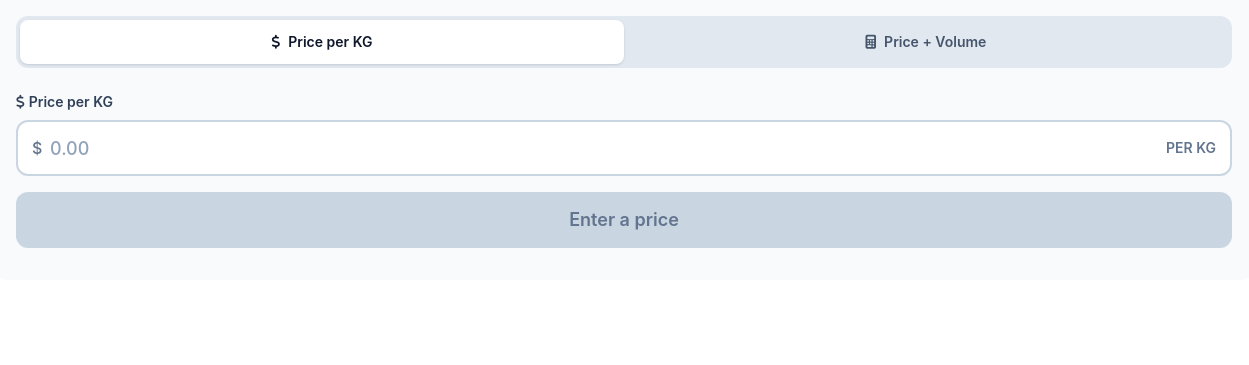
Test: PriceCalculator Component › switches to price-volume mode when button is clicked
Click the button "Price + Volume".
click(926, 42)  # box [624,20,1228,64]
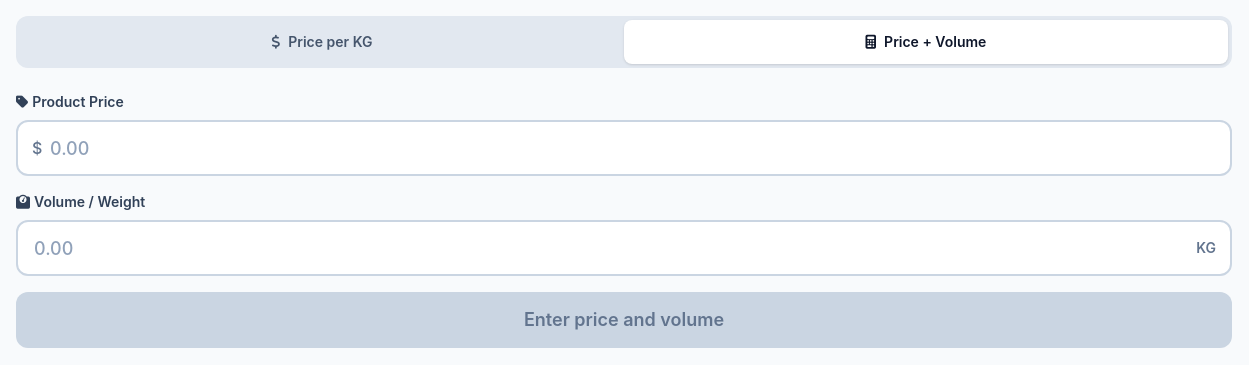
Expected: the number field labelled "Product Price" is shown, [16,120,1232,176]
Expected: the number field labelled "Volume / Weight" is shown, [16,220,1232,276]
